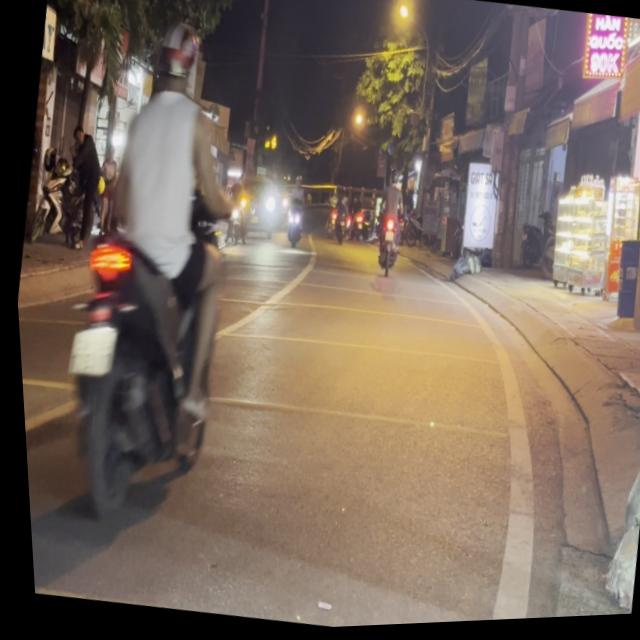helmet: (143, 18, 203, 102)
licenseplate: (16, 4, 278, 553)
nohelmet: (60, 322, 114, 376)
